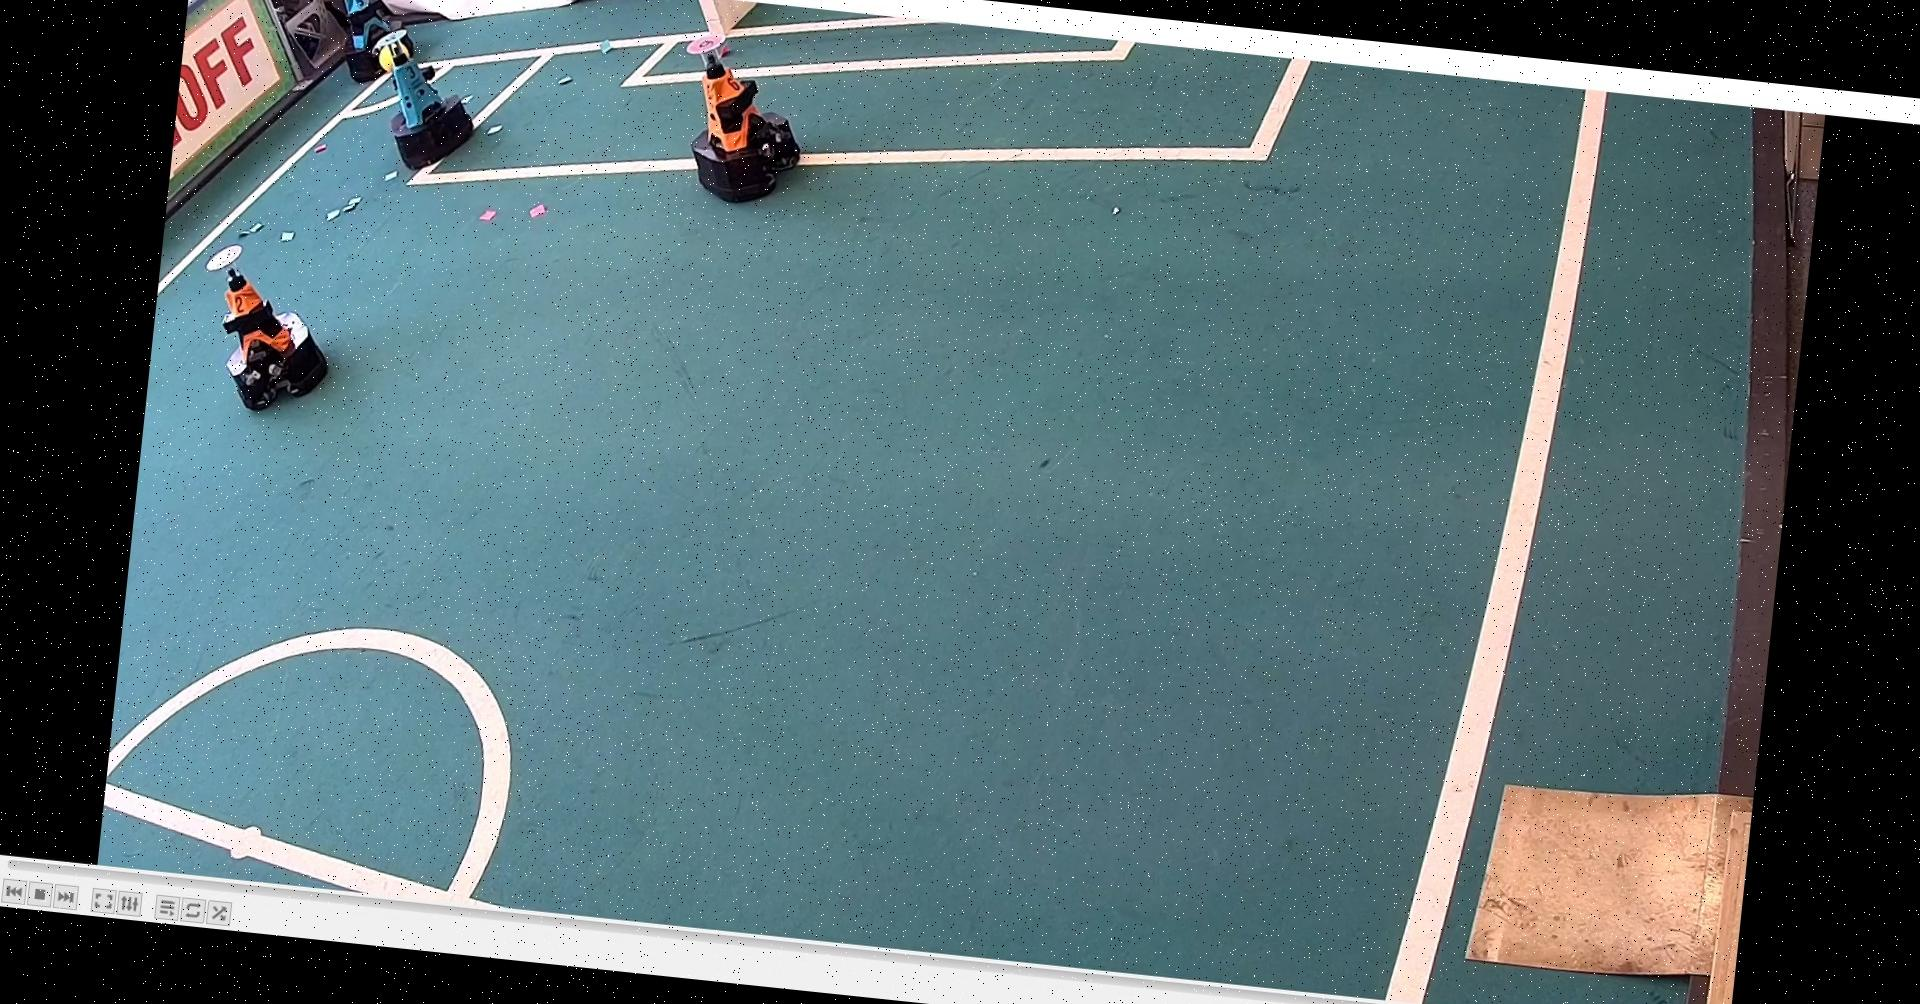Ball: (366, 30, 420, 80)
Team_Blue: (363, 18, 481, 175), (317, 0, 419, 86)
Team_Red: (190, 241, 348, 419), (669, 25, 817, 213)
